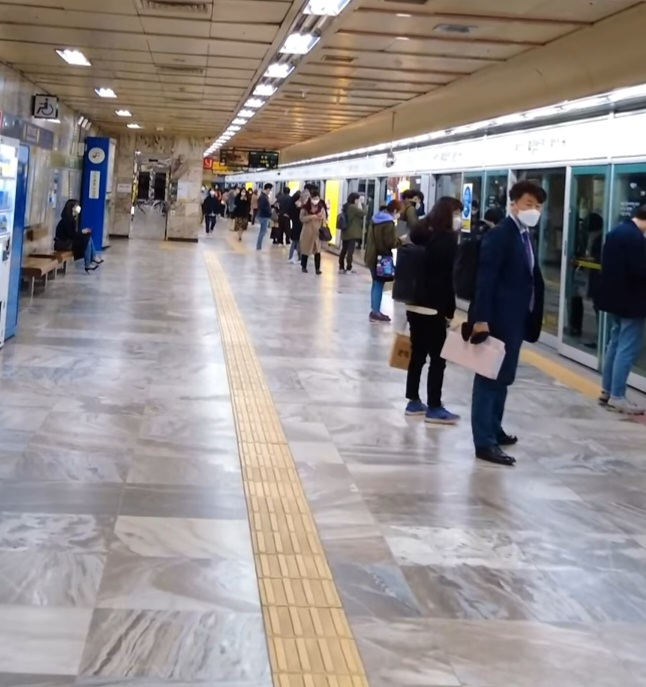guideBlock: (269, 635, 358, 687), (252, 569, 341, 618), (240, 472, 311, 522), (229, 435, 300, 484), (269, 595, 352, 636), (247, 537, 330, 576), (247, 499, 325, 538), (229, 385, 291, 425), (232, 409, 284, 447)
